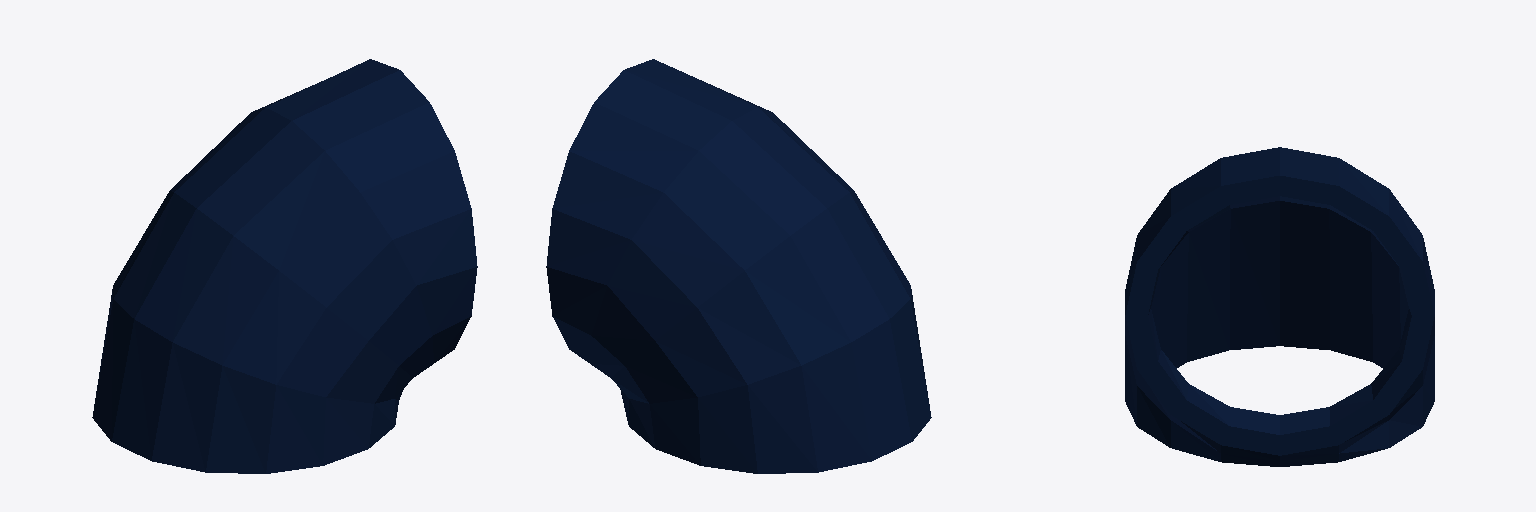
File: Pipe_90.obj
The picture shows the model from 3 angles: view 1: azimuth 30°, elevation 25°; view 2: azimuth 150°, elevation 25°; view 3: azimuth 270°, elevation 25°; orthographic projection.
Visible parts, largest first — view 1: Pipe_90_Cylinder.040; view 2: Pipe_90_Cylinder.040; view 3: Pipe_90_Cylinder.040.
Boxes of the visible parts, x1=… form: Pipe_90_Cylinder.040: x1=92, y1=59, x2=477, y2=473; Pipe_90_Cylinder.040: x1=546, y1=59, x2=931, y2=473; Pipe_90_Cylinder.040: x1=1125, y1=147, x2=1434, y2=466.
Bounding box in the file's own units: 1.87 × 1.87 × 1.74.